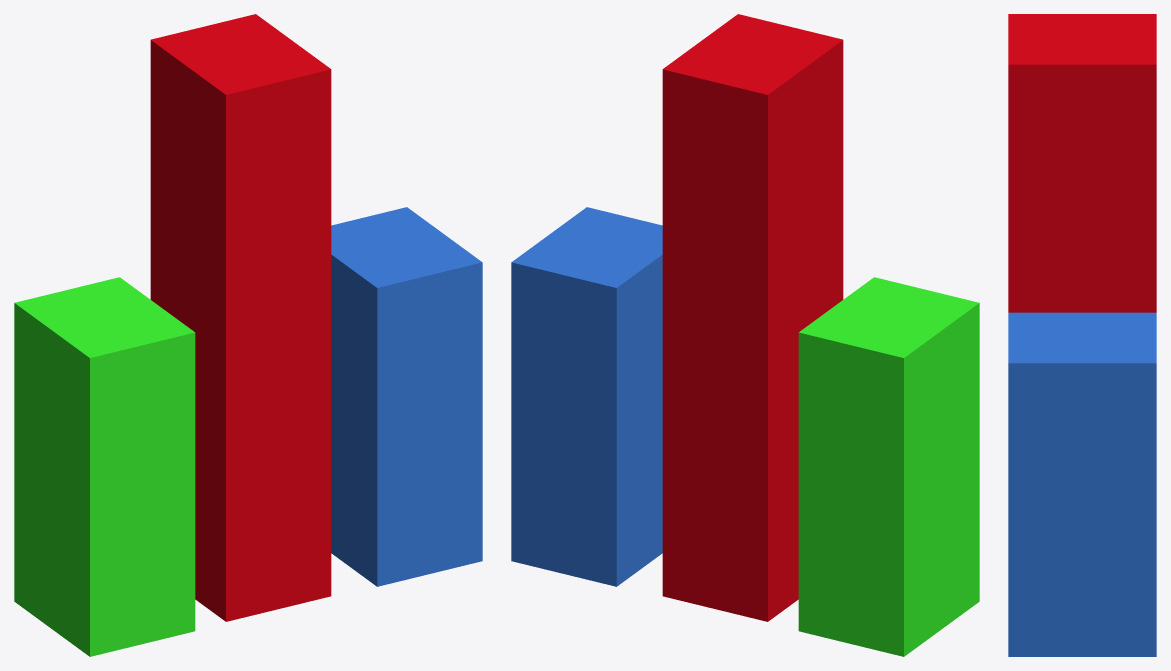
Rendered from 1.graphicsthings.2.fbx.
3 views of the same model, side by side, from view 1: azimuth 30°, elevation 25°; view 2: azimuth 150°, elevation 25°; view 3: azimuth 270°, elevation 25° (orthographic).
Parts seen in each view (by area): view 1: Cube.001, Cube, Cube.002; view 2: Cube.001, Cube, Cube.002; view 3: Cube.002, Cube.001.
Boxes of the visible parts, box(x1,y1,x2,y2) form: Cube.001: box(150, 14, 331, 621); Cube: box(14, 277, 195, 656); Cube.002: box(331, 207, 482, 586); Cube.001: box(662, 14, 843, 621); Cube: box(798, 277, 979, 656); Cube.002: box(511, 207, 662, 586); Cube.002: box(1008, 312, 1156, 656); Cube.001: box(1008, 14, 1156, 312).
Bounding box in the file's own units: 992 × 1277 × 331.
